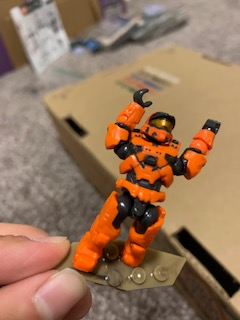spartan: (71, 89, 223, 273)
up: (103, 88, 223, 188)
